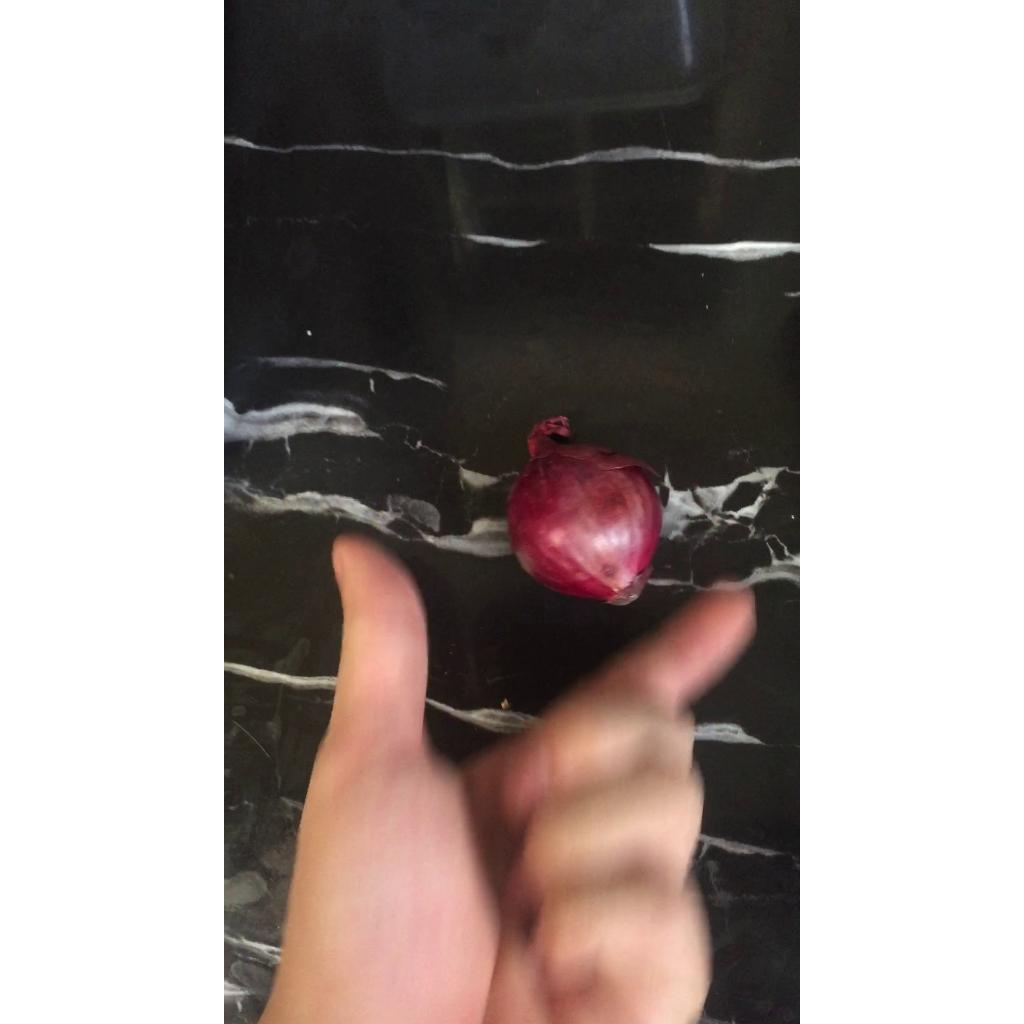Onion: (507, 416, 663, 606)
